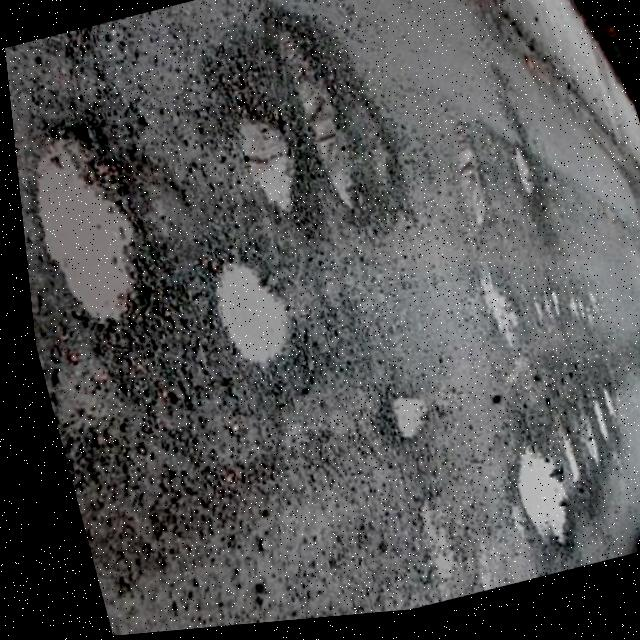Pothole: (10, 114, 164, 336), (274, 15, 372, 224), (198, 253, 301, 379), (493, 451, 571, 561), (232, 111, 308, 222), (462, 269, 516, 353), (444, 148, 491, 236), (379, 392, 428, 450), (502, 146, 539, 207), (579, 408, 605, 461), (565, 426, 592, 476), (550, 444, 574, 496), (555, 296, 576, 336), (592, 397, 611, 437), (521, 303, 541, 336), (540, 296, 558, 328), (533, 304, 549, 330), (633, 371, 640, 406), (636, 356, 640, 395)
